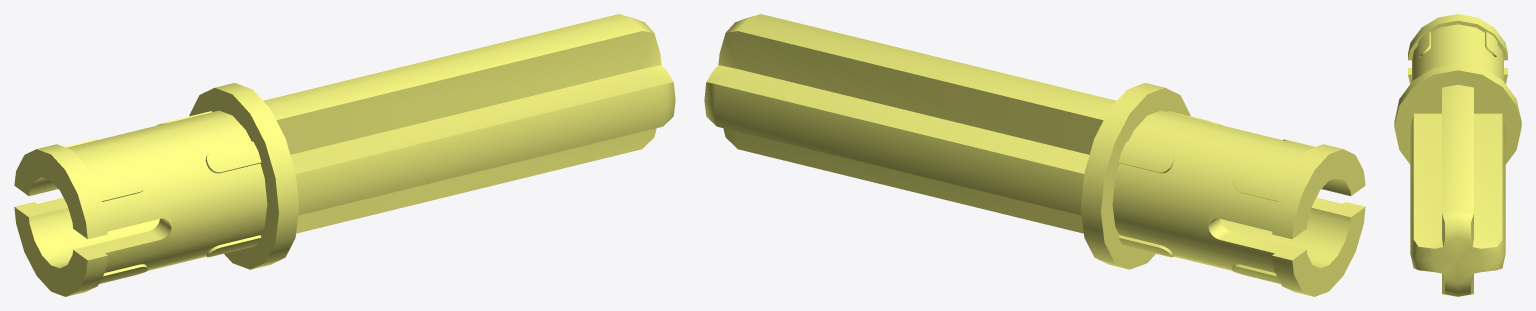
The picture shows the model from 3 angles, left to right: view 1: azimuth 30°, elevation 25°; view 2: azimuth 150°, elevation 25°; view 3: azimuth 270°, elevation 25°; orthographic projection. The views are drawn at different scales.
Visible parts, largest first — view 1: 18651.dat; view 2: 18651.dat; view 3: 18651.dat.
Part boxes in pixels (x1=…): 18651.dat: x1=14, y1=14, x2=675, y2=296; 18651.dat: x1=704, y1=14, x2=1365, y2=296; 18651.dat: x1=1394, y1=14, x2=1521, y2=296.
Bounding box in the file's own units: 0.0238 × 0.0064 × 0.0064.
